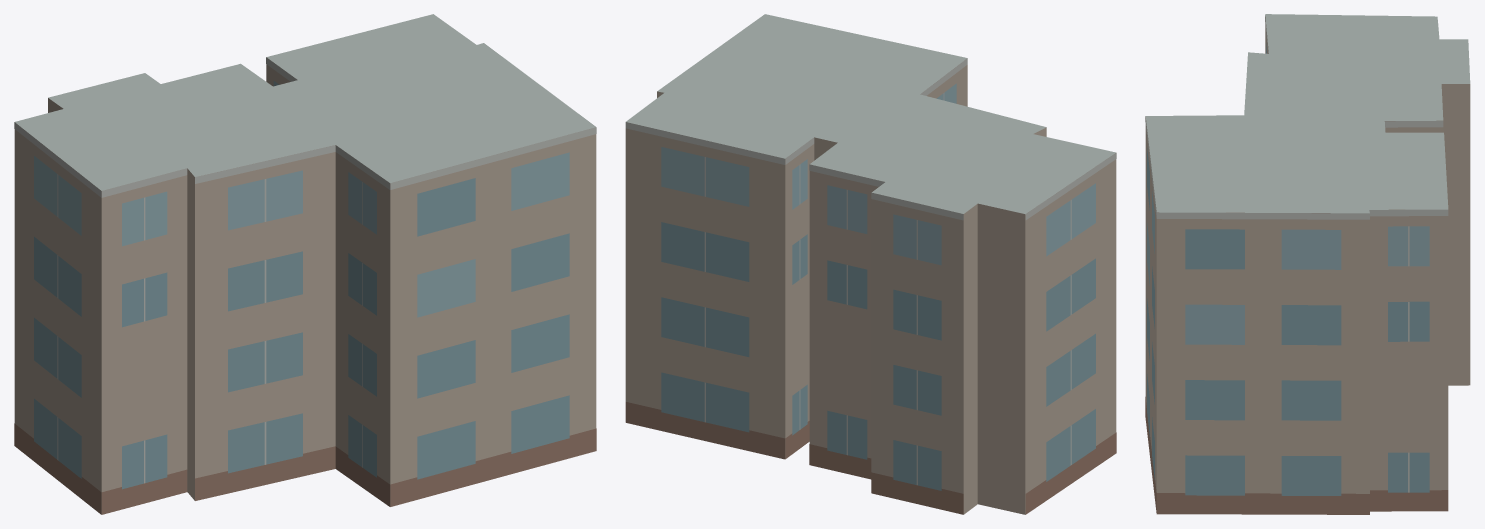
The model's file is survey-upis-32531210.glb.
3 renders of one model, left to right at view 1: azimuth 30°, elevation 25°; view 2: azimuth 150°, elevation 25°; view 3: azimuth 270°, elevation 25°, orthographic. The views are drawn at different scales.
Parts seen in each view (by area): view 1: survey-upis-32531210.tmp; view 2: survey-upis-32531210.tmp; view 3: survey-upis-32531210.tmp.
Part boxes in pixels (left/top/right/bottom): survey-upis-32531210.tmp: left=14, top=14, right=596, bottom=514; survey-upis-32531210.tmp: left=625, top=14, right=1116, bottom=514; survey-upis-32531210.tmp: left=1145, top=14, right=1470, bottom=514.
Bounding box in the file's own units: 16.16 × 11.4 × 11.13.
